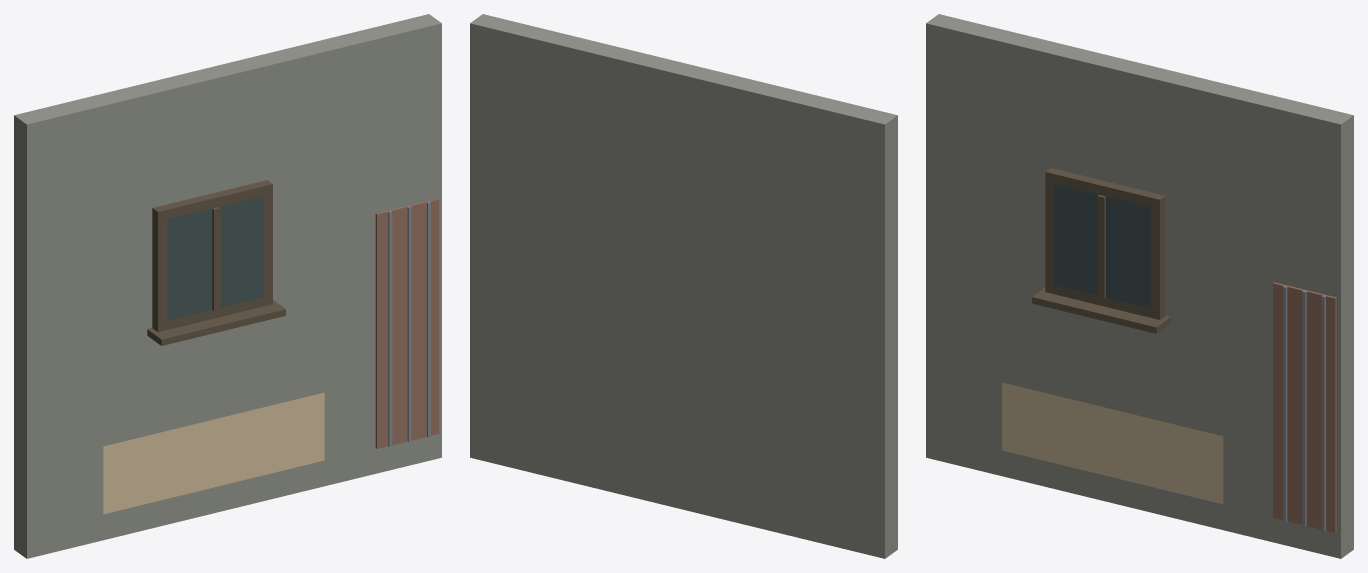
Rendered from mid-w1.fbx.
3 views of the same model, side by side, from view 1: azimuth 30°, elevation 25°; view 2: azimuth 150°, elevation 25°; view 3: azimuth 330°, elevation 25° (orthographic).
Parts seen in each view (by area): view 1: a2015/500/mid-w1; view 2: a2015/500/mid-w1; view 3: a2015/500/mid-w1.
Boxes of the visible parts, box(x1,y1,x2,y2) form: a2015/500/mid-w1: box(14, 14, 441, 558); a2015/500/mid-w1: box(470, 14, 897, 558); a2015/500/mid-w1: box(926, 14, 1353, 558).
Size of the model in its own units: 3 by 3 by 0.34.
